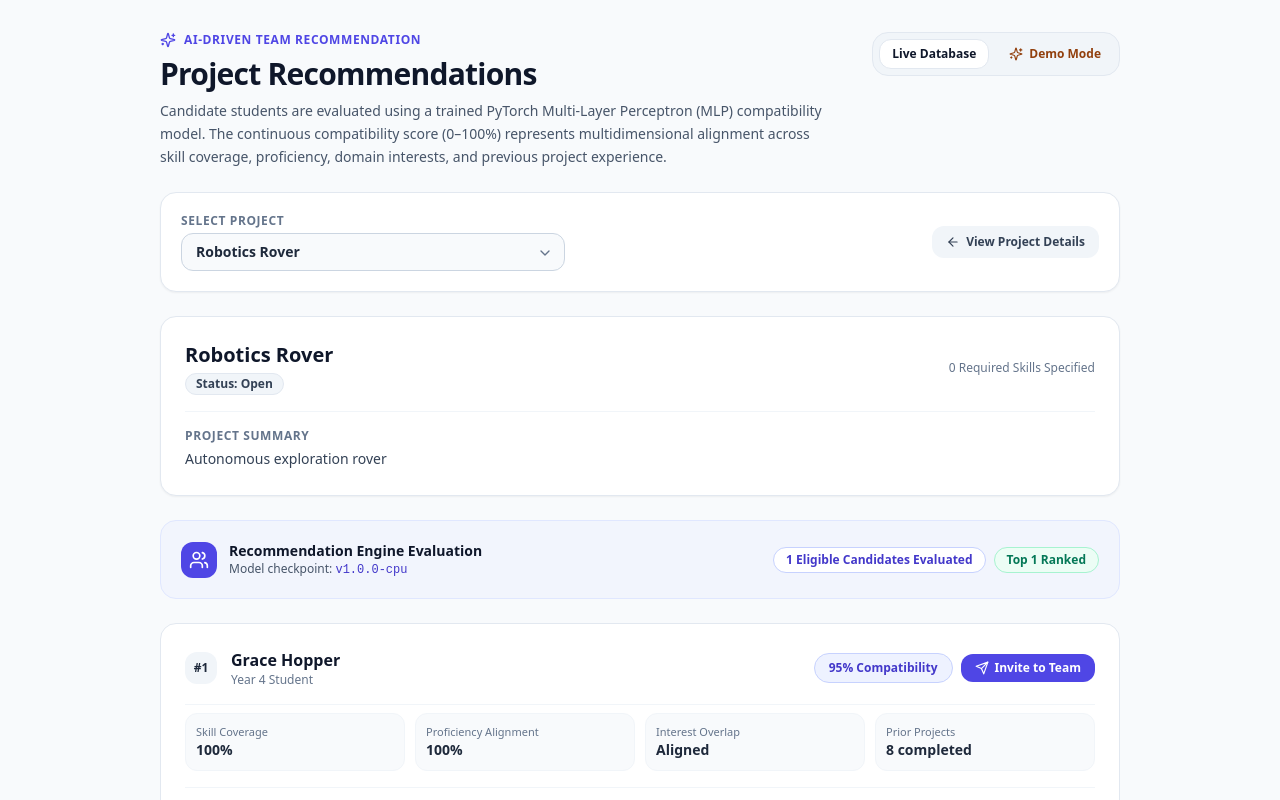
Test case: Phase 13: Voluntary Team Formation & Invitations Frontend Tests › 7. allows project owner to invite recommended candidate on RecommendationsPage
Expected: the heading "Grace Hopper" is shown, [231, 648, 340, 672]
Click Invite to Team
Click the button "Invite to Team": click(1028, 668) [960, 654, 1095, 682]
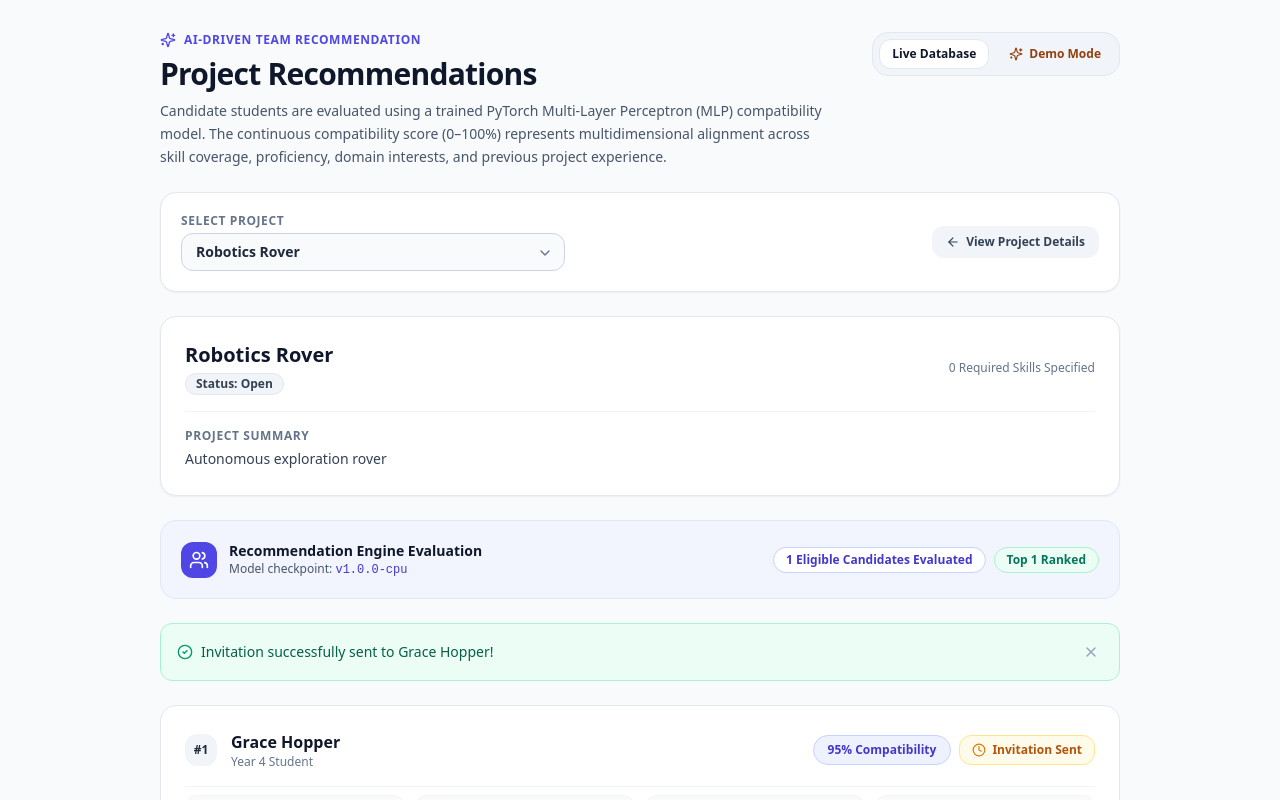
Result: the text "Invitation successfully sent to Grace Hopper!" is shown at [201, 642, 494, 662]
Result: the text "Invitation Sent" is shown at [992, 742, 1082, 758]
